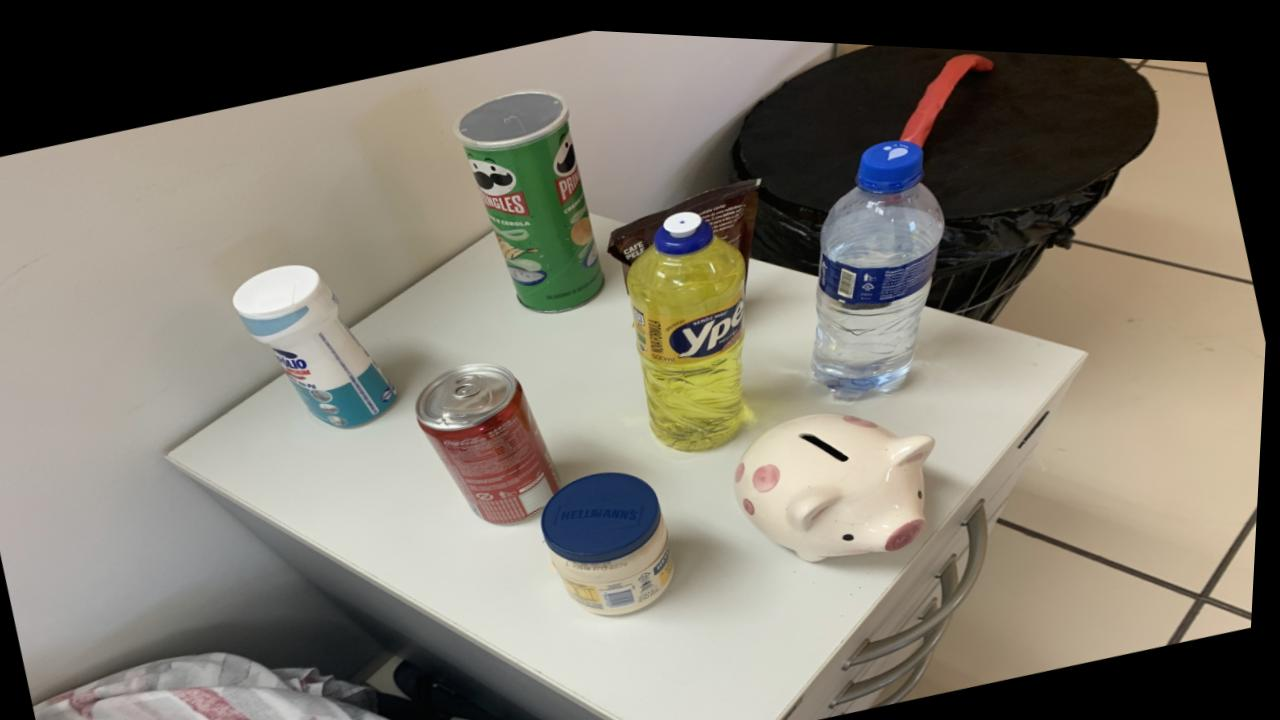Cleaner-Cleanup_Items: (236, 261, 401, 424)
Coffee-Pantry_Items: (609, 170, 762, 264)
Coke-Drinks: (419, 357, 567, 519)
Detergent-Cleanup_Items: (629, 204, 749, 444)
Mayonnaise-Pantry_Items: (546, 465, 681, 609)
Pig_Safe-Miscellaneous: (739, 404, 939, 552)
Pringles-Snacks: (455, 84, 607, 306)
Water_Bottle-Drinks: (815, 130, 947, 389)
